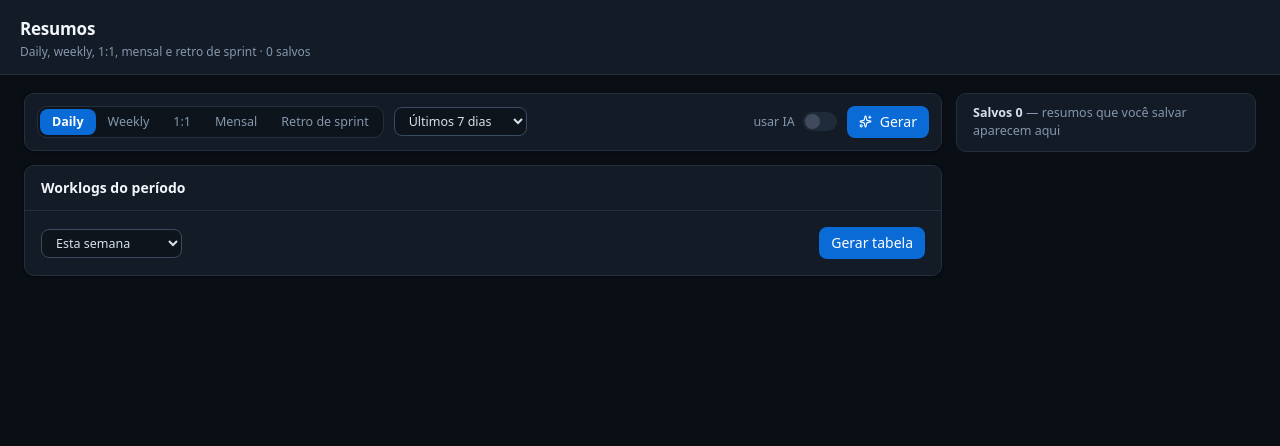
Test: Summaries › gera resumo por template (sem IA) e não mostra pílula de provider
Click the button "Gerar": [888, 122] box top-left (847, 106), bottom-right (929, 138)
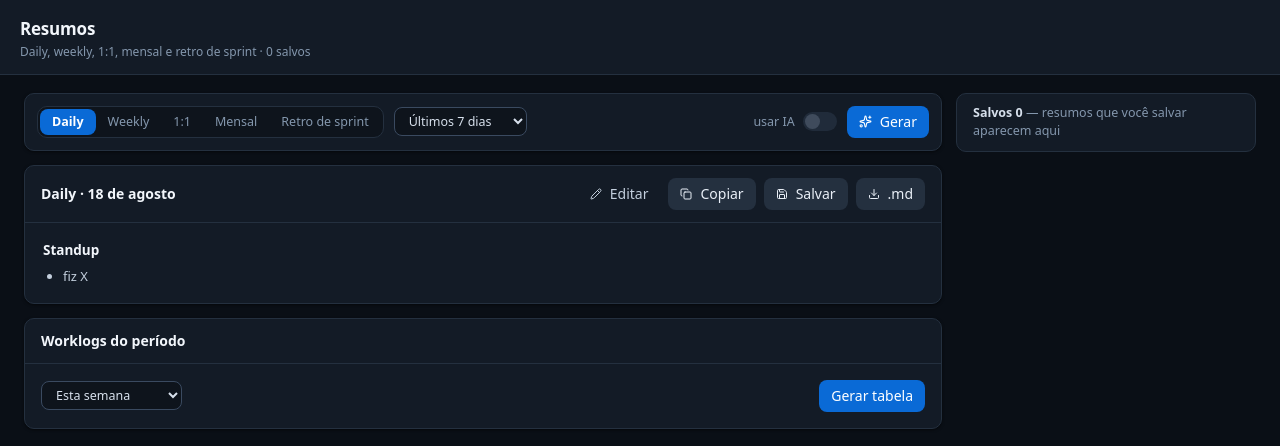
Expected: the list item "fiz X" is shown, top-left (63, 266), bottom-right (88, 284)
